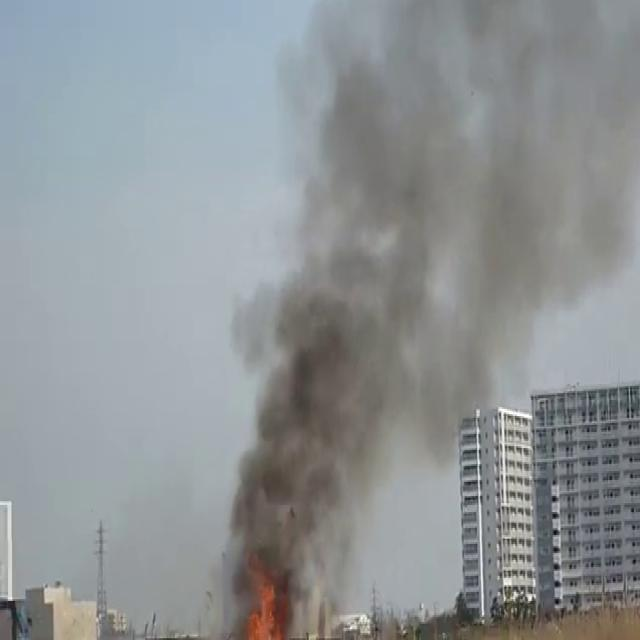Fire: (233, 578, 290, 640)
Smoke: (210, 1, 640, 627)
